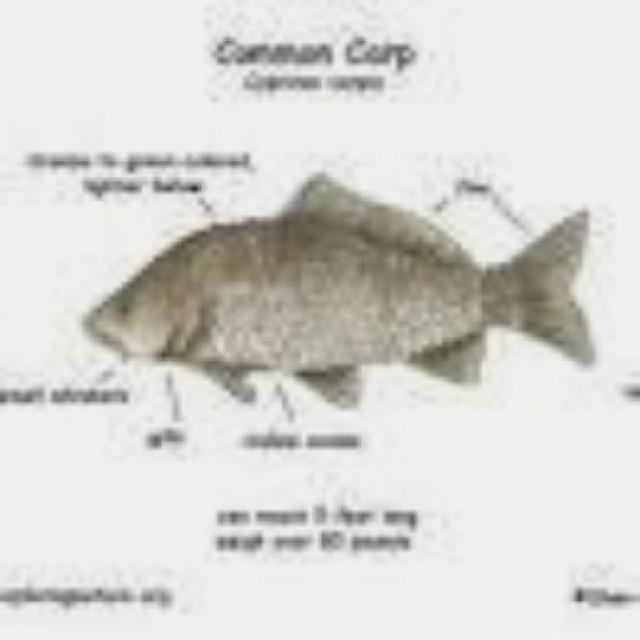ikan-mas: (77, 178, 606, 404)
